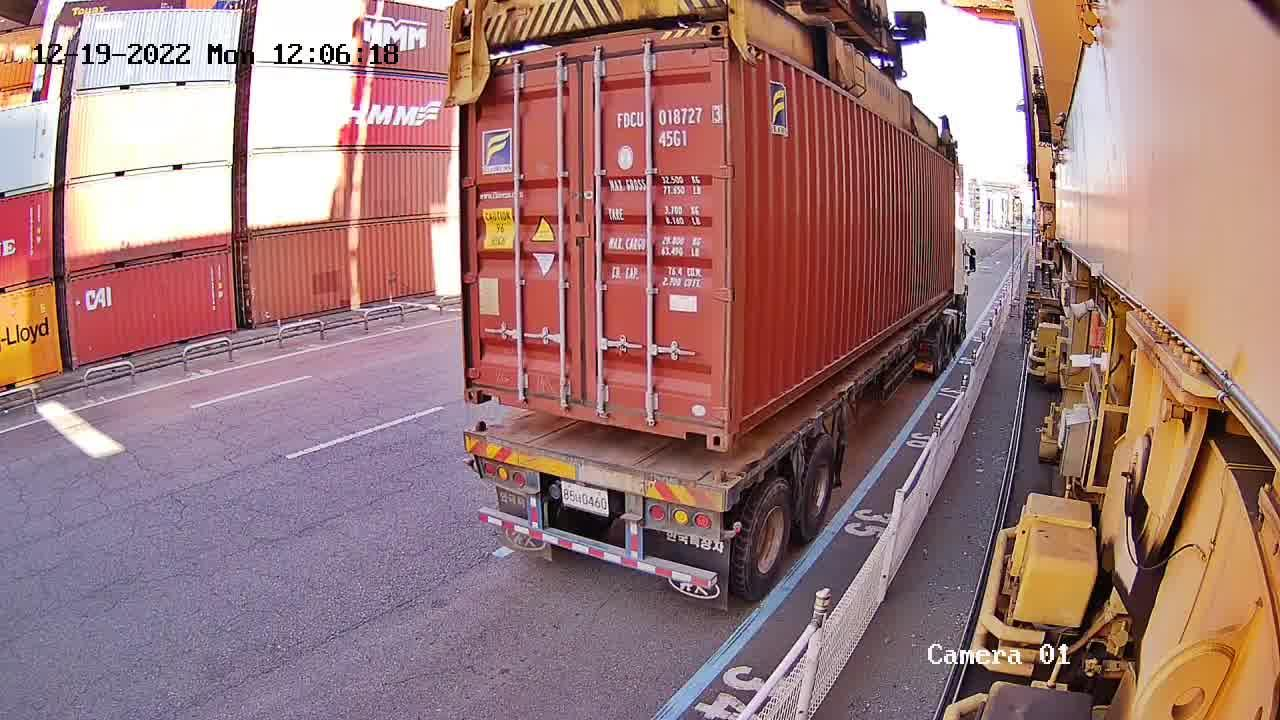Chassis: (463, 422, 740, 510)
Cone: (710, 467, 738, 500), (469, 417, 492, 447)
Hole_L: (728, 390, 760, 453), (461, 367, 504, 404)
Hole_R: (678, 397, 728, 453)
Tire: (743, 480, 792, 601), (797, 436, 837, 537)
